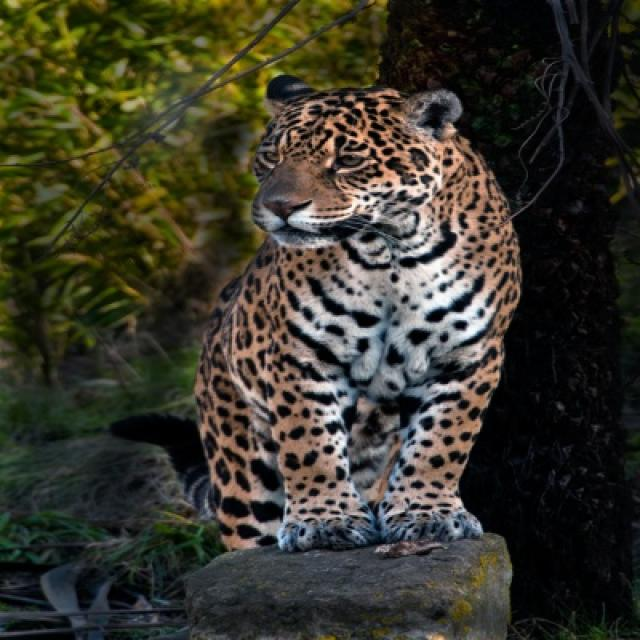Jaguar: (194, 77, 523, 558)
